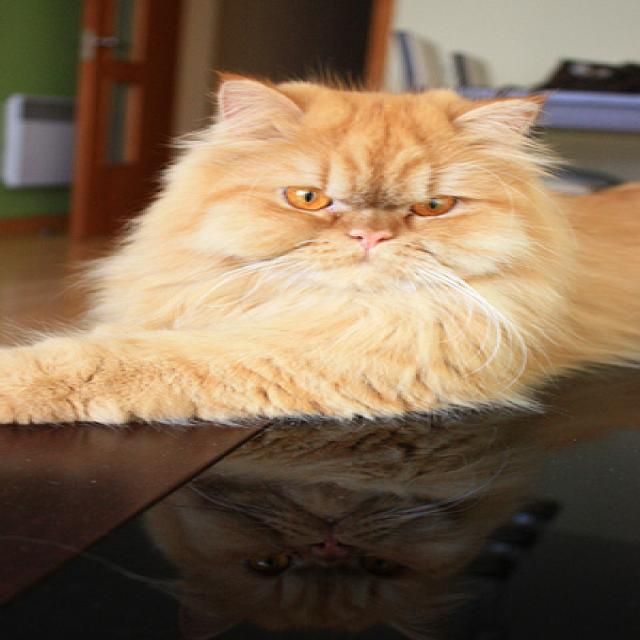Persian: (0, 67, 640, 434)
